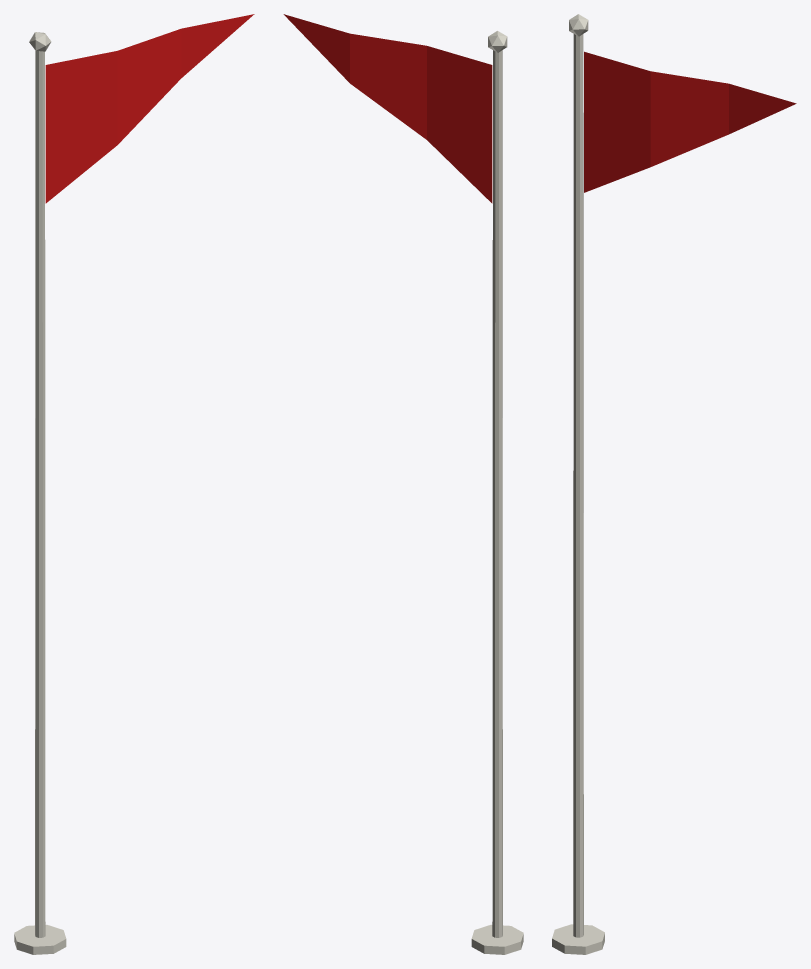
File: flag.glb
3 views of the same model, side by side, from view 1: azimuth 30°, elevation 25°; view 2: azimuth 150°, elevation 25°; view 3: azimuth 330°, elevation 25° (orthographic).
Visible parts, largest first — view 1: flag_mesh; view 2: flag_mesh; view 3: flag_mesh.
Boxes of the visible parts, x1=… form: flag_mesh: x1=14, y1=14, x2=254, y2=954; flag_mesh: x1=283, y1=14, x2=523, y2=954; flag_mesh: x1=552, y1=14, x2=796, y2=954.
Size of the model in its own units: 0.61 by 2.23 by 0.12.
